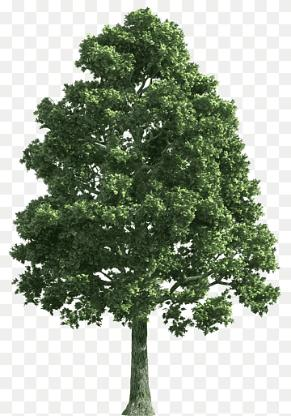tree: (9, 1, 284, 416)
